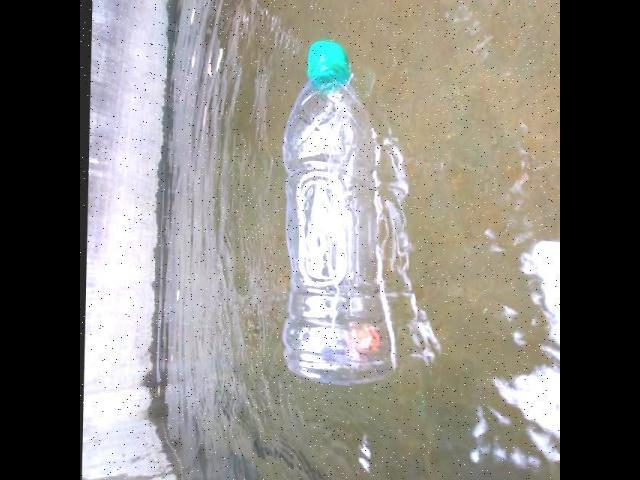Bottle: (276, 33, 404, 392)
